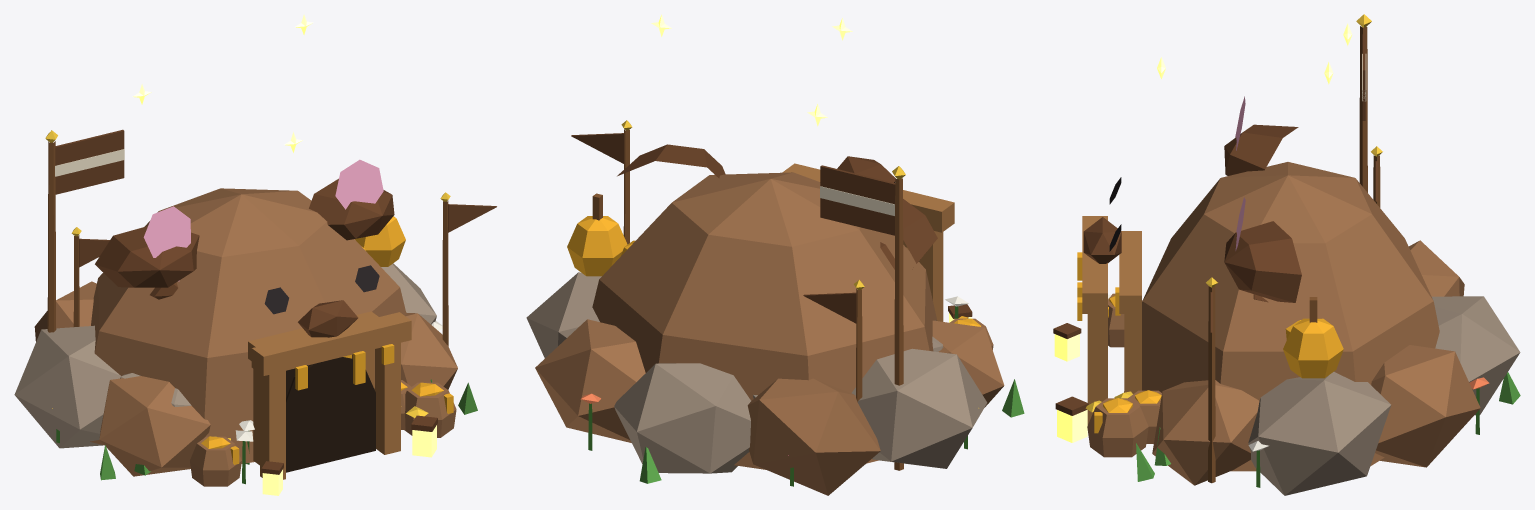
Rendered from bear-honey-cave.glb.
3 views of the same model, side by side, from view 1: azimuth 30°, elevation 25°; view 2: azimuth 150°, elevation 25°; view 3: azimuth 270°, elevation 25° (orthographic). The views are drawn at different scales.
Parts seen in each view (by area): view 1: lv3, lv2; view 2: lv3, lv2; view 3: lv3, lv2.
Part boxes in pixels (bbox=[...]): lv3: bbox=[14, 14, 496, 495]; lv2: bbox=[71, 227, 432, 475]; lv3: bbox=[526, 14, 1024, 495]; lv2: bbox=[620, 240, 943, 402]; lv3: bbox=[1053, 14, 1520, 495]; lv2: bbox=[1114, 146, 1382, 465].
Bounding box in the file's own units: 2.08 × 1.72 × 1.84.
